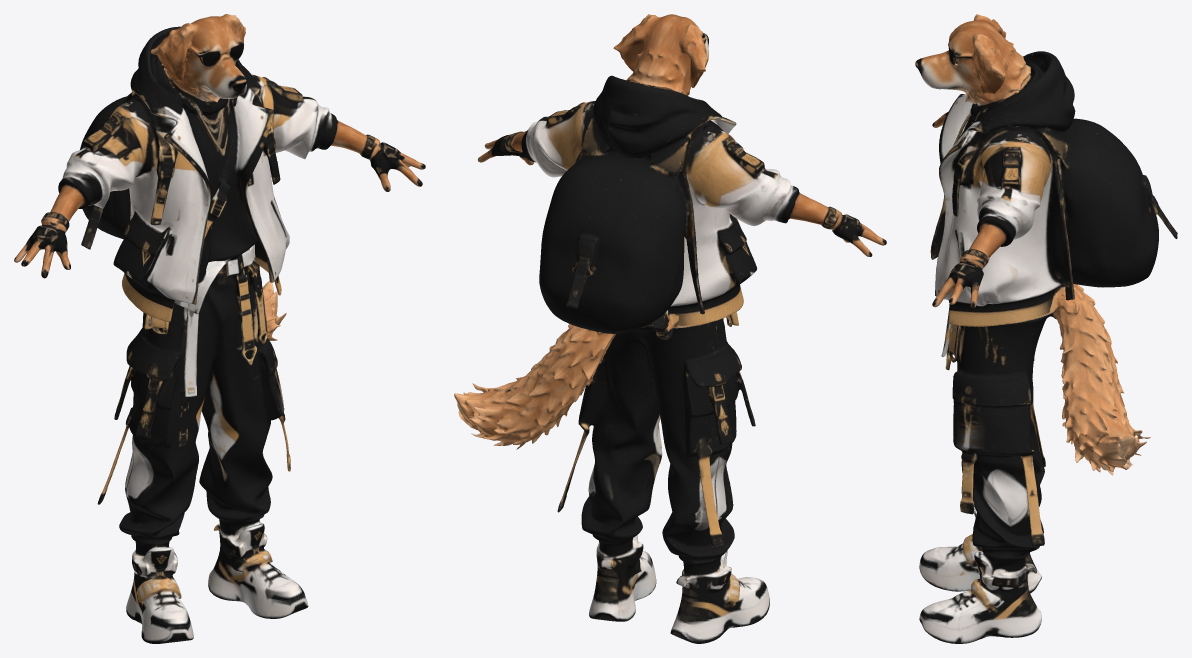
File: doggeshbhai.glb
The picture shows the model from 3 angles, left to right: view 1: azimuth 30°, elevation 25°; view 2: azimuth 150°, elevation 25°; view 3: azimuth 270°, elevation 25°; orthographic projection. The views are drawn at different scales.
Bounding box in the file's own units: 1.34 × 1.9 × 0.7708.
1 material, 1 textured.
